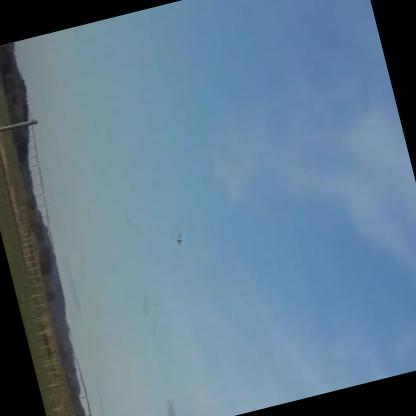plane: (174, 232, 185, 248)
